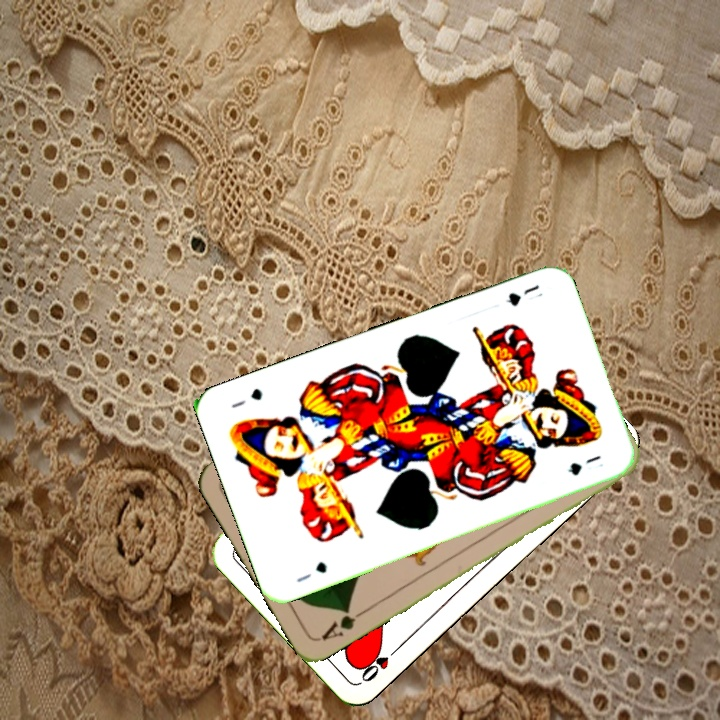GA: (317, 603, 369, 643)
GU: (502, 280, 542, 309), (292, 557, 330, 585)
HO: (356, 640, 405, 685)
